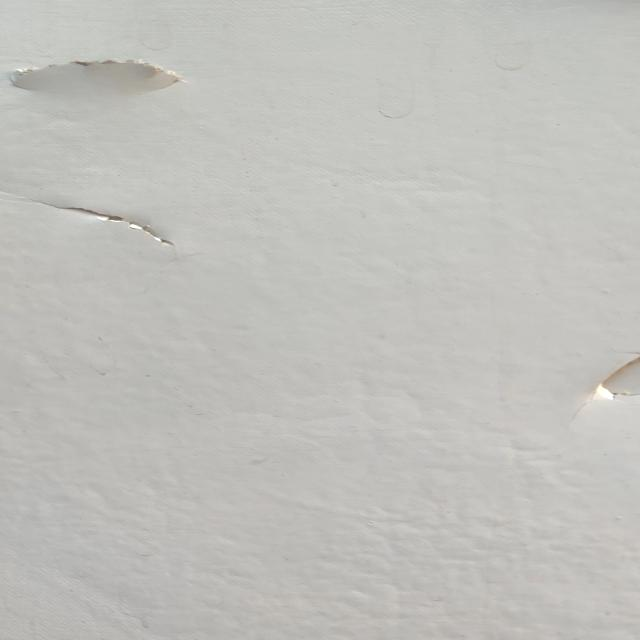Scratches: (23, 194, 213, 268), (1, 48, 212, 109), (576, 337, 640, 408)
